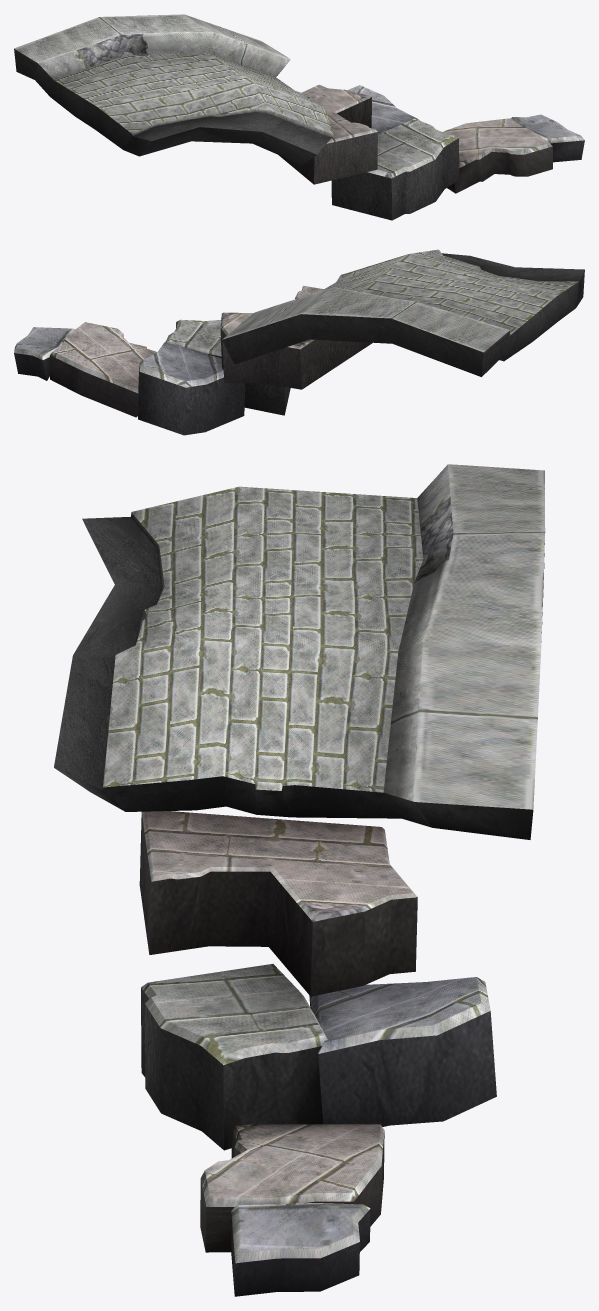
The model's file is polta_parts.glb.
3 views of the same model, one above another, from view 1: azimuth 30°, elevation 25°; view 2: azimuth 150°, elevation 25°; view 3: azimuth 270°, elevation 25° (orthographic). The views are drawn at different scales.
Parts seen in each view (by area): view 1: m0, m1, m2; view 2: m1, m0, m2; view 3: m0, m1, m2.
Boxes of the visible parts, x1=… form: m0: x1=14, y1=14, x2=584, y2=178; m1: x1=14, y1=49, x2=584, y2=220; m2: x1=54, y1=52, x2=333, y2=134; m1: x1=14, y1=253, x2=584, y2=435; m0: x1=14, y1=285, x2=509, y2=393; m2: x1=322, y1=249, x2=578, y2=335; m0: x1=102, y1=464, x2=545, y2=1263; m1: x1=54, y1=516, x2=544, y2=1296; m2: x1=103, y1=486, x2=423, y2=792.
Size of the model in its own units: 46.94 by 17.11 by 20.22.
3 materials, 3 textured.
